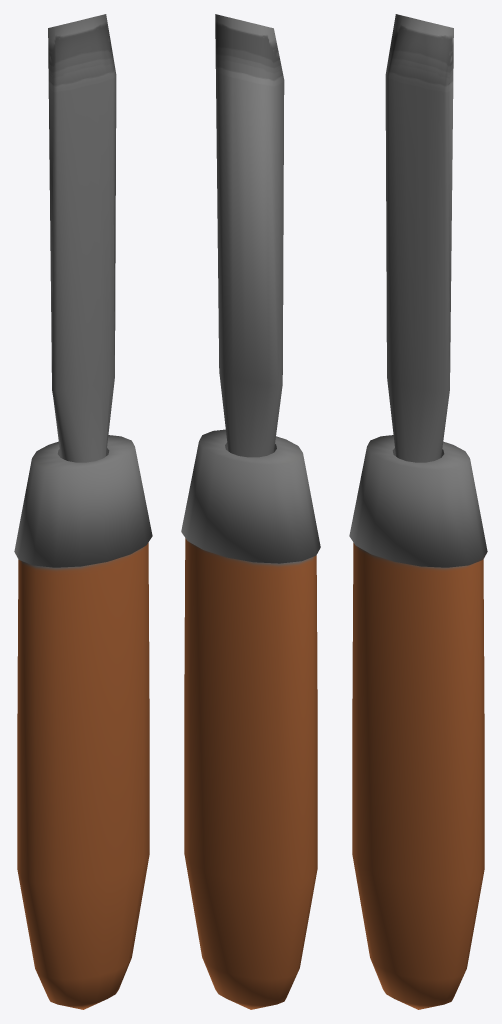
The model's file is Goiva.fbx.
3 views of the same model, side by side, from view 1: azimuth 30°, elevation 25°; view 2: azimuth 150°, elevation 25°; view 3: azimuth 330°, elevation 25° (orthographic).
Visible parts, largest first — view 1: Goiva; view 2: Goiva; view 3: Goiva.
Boxes of the visible parts, left/top/right/bottom form: Goiva: left=14, top=14, right=152, bottom=1009; Goiva: left=181, top=14, right=320, bottom=1009; Goiva: left=349, top=14, right=487, bottom=1009.
Bounding box in the file's own units: 177 × 1288 × 115.
Materials: 1 (1 with a texture image).
